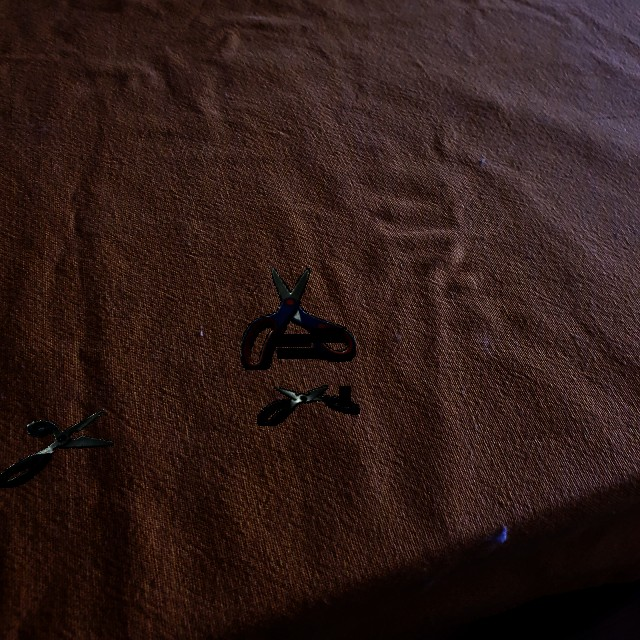scissors: (241, 267, 356, 370), (0, 409, 114, 488), (257, 385, 360, 426)
